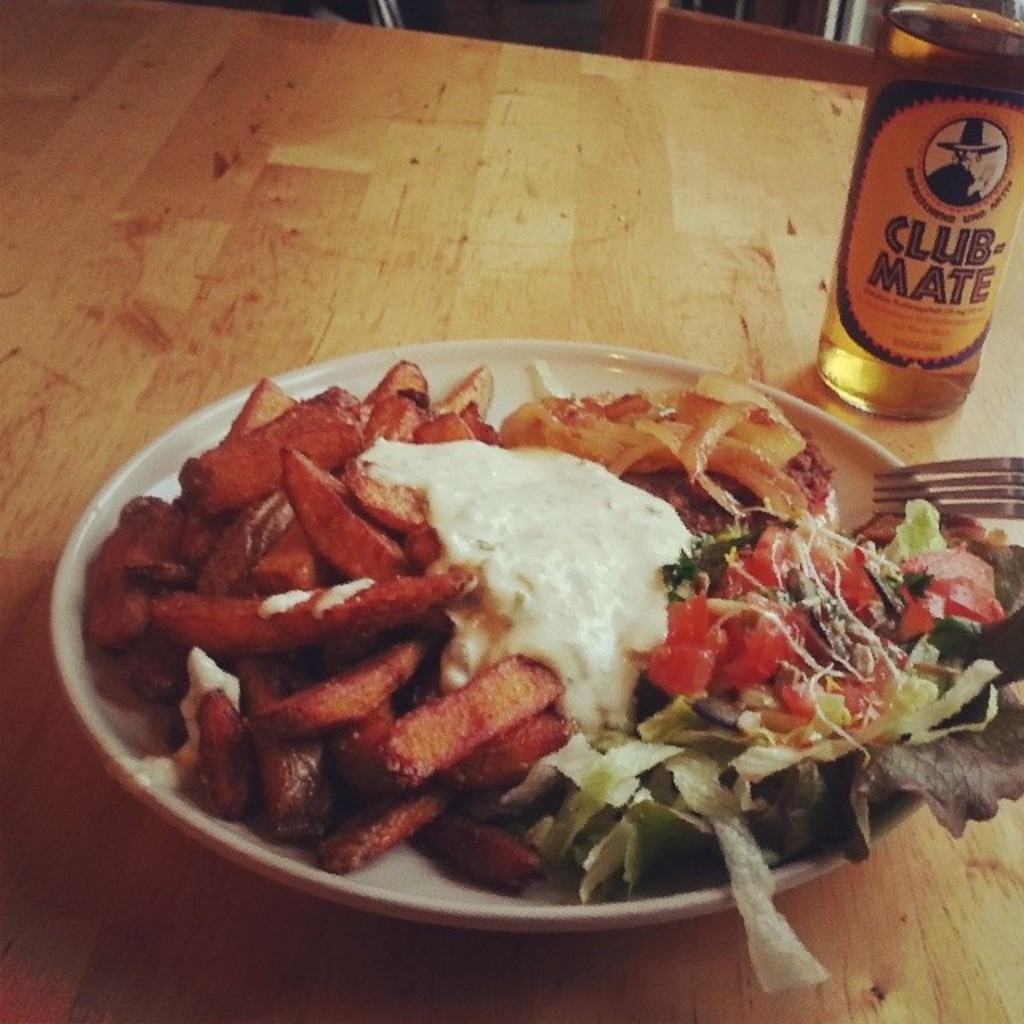French fries: (145, 555, 480, 654), (364, 657, 566, 785), (179, 384, 363, 510), (272, 449, 425, 585), (248, 644, 326, 849), (192, 476, 302, 617), (240, 647, 422, 729), (84, 491, 177, 651), (326, 449, 436, 574), (315, 784, 459, 876), (436, 710, 577, 798), (409, 804, 544, 891), (188, 679, 248, 827), (256, 512, 327, 603), (217, 371, 299, 448), (435, 363, 494, 432), (366, 353, 422, 404), (363, 396, 423, 440), (414, 408, 467, 441)
